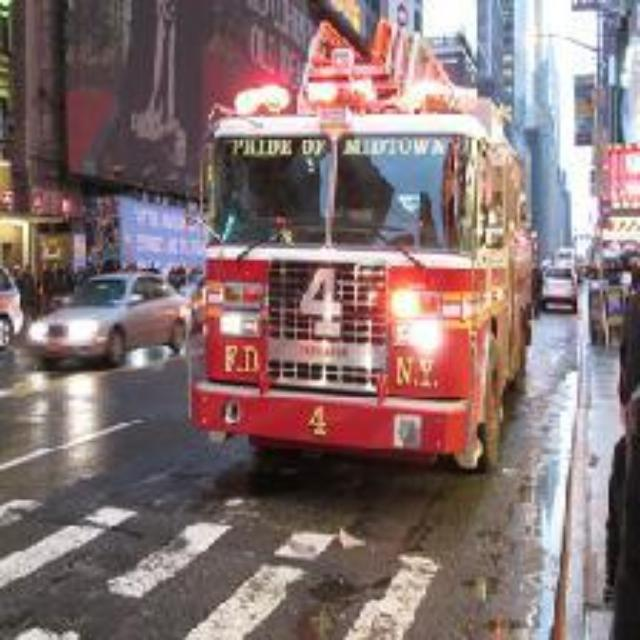emergency: (177, 51, 531, 491)
